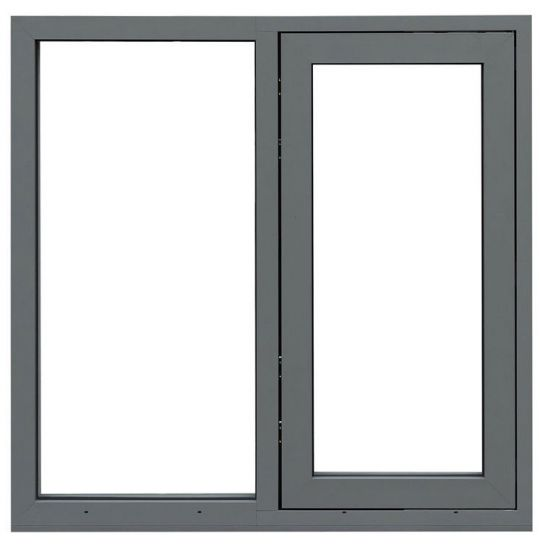Window: (10, 17, 531, 531)
